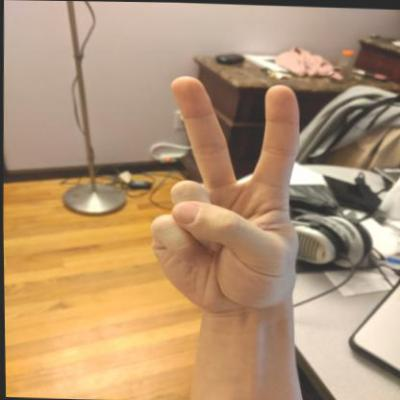hand: (140, 71, 310, 318)
